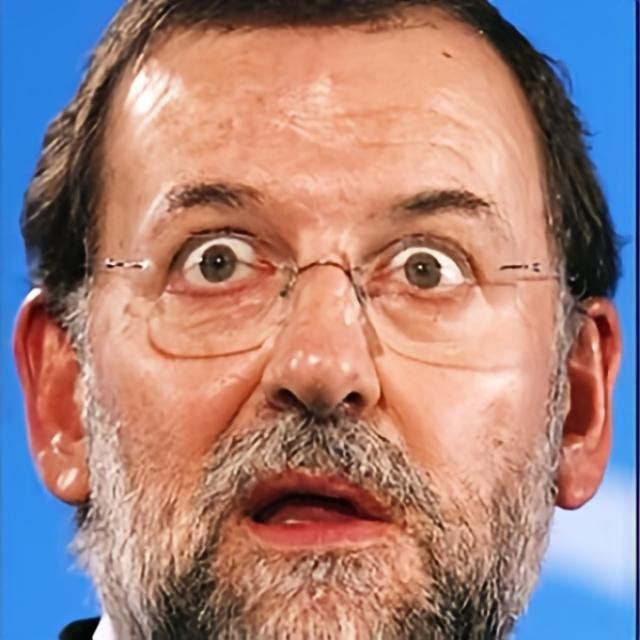fear: (84, 4, 561, 640)
